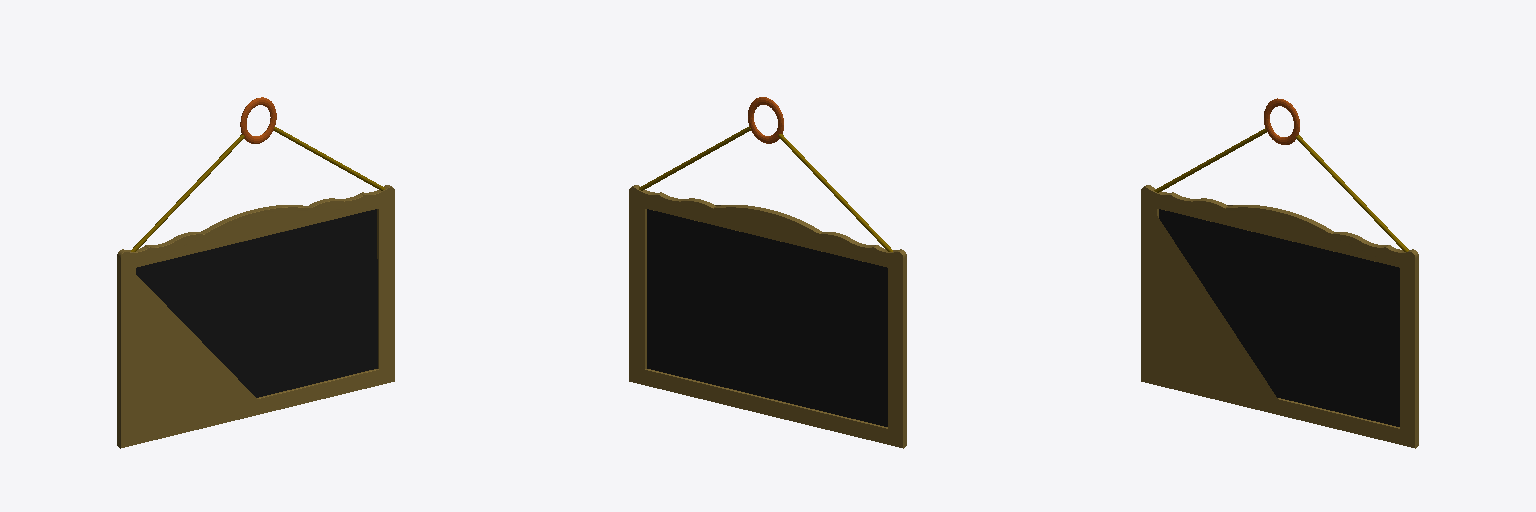
File: Board.obj
3 views of the same model, side by side, from view 1: azimuth 30°, elevation 25°; view 2: azimuth 150°, elevation 25°; view 3: azimuth 330°, elevation 25° (orthographic).
Visible parts, largest first — view 1: PB91_04, PB91_01, Torus001, Cylinder002, Cylinder001; view 2: PB91_04, PB91_01, Cylinder002, Torus001, Cylinder001; view 3: PB91_04, PB91_01, Torus001, Cylinder001, Cylinder002.
Boxes of the visible parts, <box> form: PB91_04: <box>136,209,377,397</box>; PB91_01: <box>117,185,394,448</box>; Torus001: <box>240,97,276,143</box>; Cylinder002: <box>131,134,244,251</box>; Cylinder001: <box>274,127,384,190</box>; PB91_04: <box>647,209,887,426</box>; PB91_01: <box>629,185,906,448</box>; Cylinder002: <box>778,134,892,251</box>; Torus001: <box>748,97,783,143</box>; Cylinder001: <box>639,126,750,190</box>; PB91_04: <box>1159,209,1399,426</box>; PB91_01: <box>1141,185,1418,448</box>; Torus001: <box>1264,98,1299,144</box>; Cylinder001: <box>1296,135,1408,251</box>; Cylinder002: <box>1154,128,1266,192</box>.
Bounding box in the file's own units: 1046 × 1150 × 23.